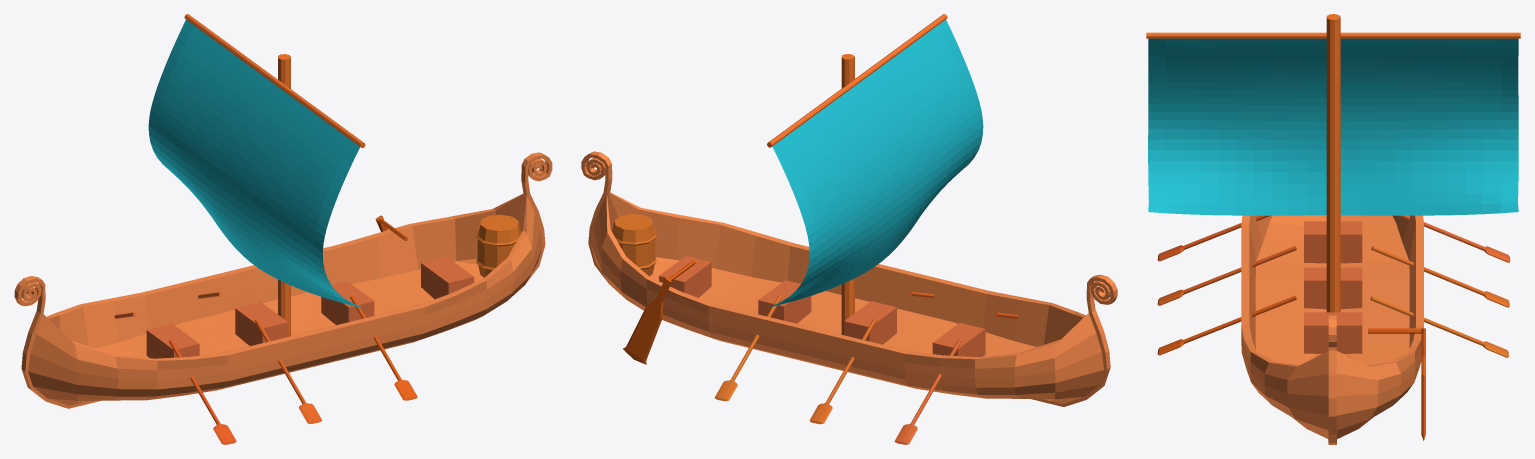
Rendered from sailboat.glb.
3 renders of one model, left to right at view 1: azimuth 30°, elevation 25°; view 2: azimuth 150°, elevation 25°; view 3: azimuth 270°, elevation 25°, orthographic. The views are drawn at different scales.
Parts seen in each view (by area): view 1: hull_2, plane sail_12, barrel_18, 2nd_mate_seat_16, Cap_seat_14, 3rd_mate_seat_17, 1st_mate_seat_15, foremast_6, mast_5, middle_port_oar_3, aft_port_oar_8, foward_port_oar_7; view 2: hull_2, plane sail_12, barrel_18, steerboard_4, 2nd_mate_seat_16, 3rd_mate_seat_17, 1st_mate_seat_15, foremast_6, Cap_seat_14, mast_5, middle_stbd_9, aft_stbd_oar_11 (+1 smaller); view 3: plane sail_12, hull_2, mast_5, foremast_6, 1st_mate_seat_15, 3rd_mate_seat_17, 2nd_mate_seat_16, steerboard_4, aft_port_oar_8, middle_port_oar_3, middle_stbd_9, aft_stbd_oar_11 (+2 smaller).
Boxes of the visible parts, x1,y1,x2,y2 form: hull_2: [14, 152, 552, 408]; plane sail_12: [148, 19, 363, 308]; barrel_18: [476, 214, 521, 277]; 2nd_mate_seat_16: [235, 302, 288, 345]; Cap_seat_14: [421, 256, 474, 299]; 3rd_mate_seat_17: [146, 324, 199, 358]; 1st_mate_seat_15: [321, 281, 374, 324]; foremast_6: [184, 14, 365, 147]; mast_5: [278, 54, 290, 336]; middle_port_oar_3: [254, 319, 321, 423]; aft_port_oar_8: [350, 295, 417, 400]; foward_port_oar_7: [169, 340, 236, 444]; hull_2: [581, 151, 1117, 406]; plane sail_12: [769, 19, 983, 307]; barrel_18: [611, 214, 656, 276]; steerboard_4: [623, 260, 695, 364]; 2nd_mate_seat_16: [844, 301, 896, 344]; 3rd_mate_seat_17: [932, 323, 985, 356]; 1st_mate_seat_15: [758, 280, 811, 323]; foremast_6: [767, 14, 947, 147]; Cap_seat_14: [659, 256, 711, 297]; mast_5: [841, 54, 854, 335]; middle_stbd_9: [809, 318, 876, 424]; aft_stbd_oar_11: [714, 295, 781, 401]; plane sail_12: [1148, 38, 1518, 215]; hull_2: [1241, 215, 1423, 444]; mast_5: [1326, 14, 1340, 312]; foremast_6: [1146, 32, 1520, 38]; 1st_mate_seat_15: [1304, 312, 1362, 353]; 3rd_mate_seat_17: [1304, 221, 1362, 263]; 2nd_mate_seat_16: [1304, 267, 1362, 309]; steerboard_4: [1368, 328, 1425, 440]; aft_port_oar_8: [1157, 295, 1296, 355]; middle_port_oar_3: [1157, 246, 1296, 305]; middle_stbd_9: [1371, 246, 1509, 307]; aft_stbd_oar_11: [1370, 296, 1508, 357].
Bounding box in the file's own units: 10.94 × 6.2 × 6.24.
